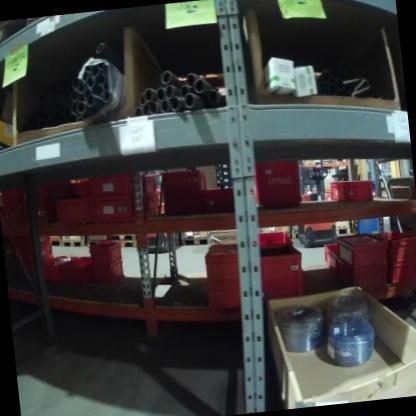pallet: (179, 237, 209, 248), (61, 238, 83, 250)
small_load_carrier: (321, 235, 391, 298), (251, 155, 304, 210), (93, 188, 163, 225), (255, 242, 310, 285), (87, 169, 161, 200), (335, 228, 389, 268), (204, 236, 247, 282), (371, 225, 416, 263), (327, 174, 375, 206), (58, 252, 97, 288), (159, 165, 208, 193), (206, 279, 247, 312), (54, 195, 95, 228), (4, 207, 56, 233), (162, 191, 204, 219), (41, 253, 76, 286), (200, 184, 236, 216), (261, 279, 309, 303), (385, 253, 416, 287), (90, 237, 121, 263), (253, 228, 293, 248), (92, 259, 124, 283), (1, 187, 30, 209), (20, 244, 51, 262), (16, 235, 50, 247)
